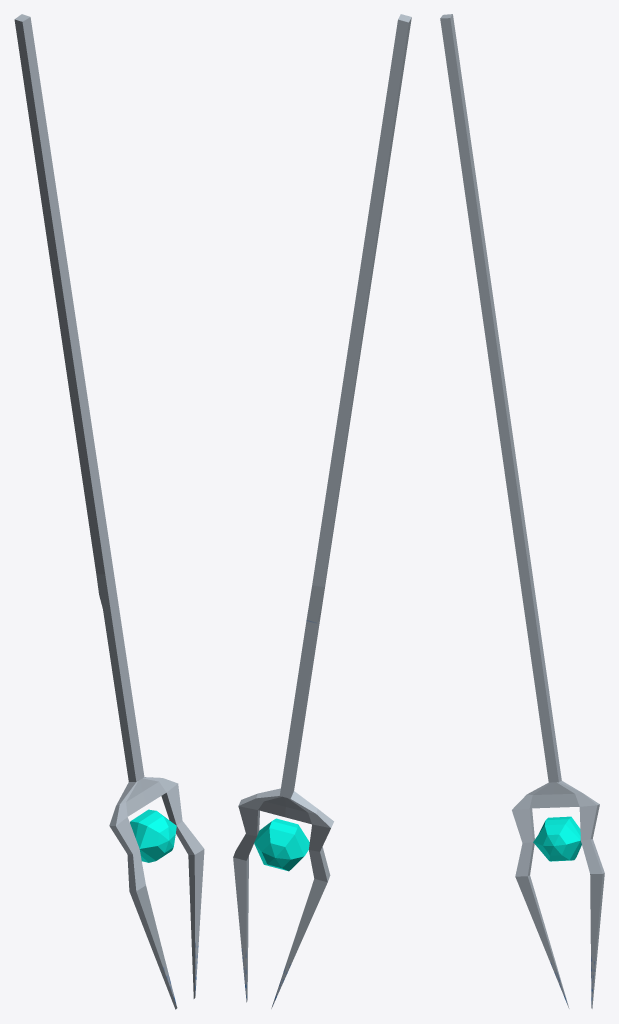
Rendered from Marjal'sPitchFork.fbx.
The picture shows the model from 3 angles, left to right: view 1: azimuth 30°, elevation 25°; view 2: azimuth 150°, elevation 25°; view 3: azimuth 330°, elevation 25°; orthographic projection. The views are drawn at different scales.
Parts seen in each view (by area): view 1: Cube.001; view 2: Cube.001; view 3: Cube.001.
Part boxes in pixels (x1,y1,x2,y2): Cube.001: [14, 14, 204, 1009]; Cube.001: [233, 14, 411, 1008]; Cube.001: [440, 14, 604, 1008].
Bounding box in the file's own units: 104 × 564 × 28.41.
1 material, 1 textured.
